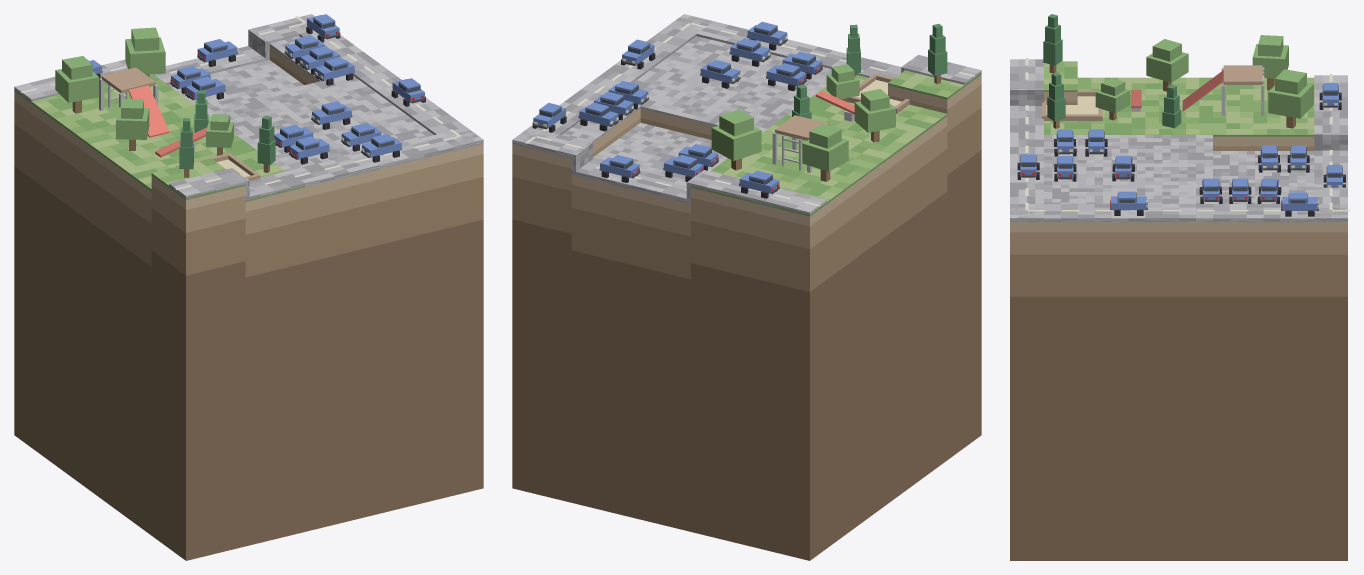
Rendered from block_23_permeable_65.glb.
3 views of the same model, side by side, from view 1: azimuth 30°, elevation 25°; view 2: azimuth 150°, elevation 25°; view 3: azimuth 270°, elevation 25° (orthographic).
Parts seen in each view (by area): view 1: Patch_UpperRight_b23_PP, Resid_UpperRight_b23_PP, Roads_UpperRight_b23_PP, PlayEquip_UpperRight_b23_PP, RTree_45_PP, RTree_46_PP, RTree_43_PP, RTree_42_PP, RTree_41_PP, RoadMarks_UpperRight_b23_PP, RCar_4_PP, PCar_0_PP (+12 smaller); view 2: Patch_UpperRight_b23_PP, Resid_UpperRight_b23_PP, Roads_UpperRight_b23_PP, PlayEquip_UpperRight_b23_PP, RTree_46_PP, RTree_45_PP, RTree_43_PP, RTree_42_PP, RTree_40_PP, PCar_4_PP, PCar_6_PP, PCar_9_PP (+13 smaller); view 3: Patch_UpperRight_b23_PP, Resid_UpperRight_b23_PP, Roads_UpperRight_b23_PP, PlayEquip_UpperRight_b23_PP, RTree_46_PP, RTree_43_PP, RTree_45_PP, RTree_42_PP, RTree_40_PP, RTree_41_PP, RoadMarks_UpperRight_b23_PP, RCar_14_PP (+14 smaller).
Part boxes in pixels (left/top/right/bottom): Patch_UpperRight_b23_PP: left=14, top=46, right=483, bottom=560; Resid_UpperRight_b23_PP: left=14, top=36, right=483, bottom=201; Roads_UpperRight_b23_PP: left=14, top=14, right=483, bottom=201; PlayEquip_UpperRight_b23_PP: left=99, top=67, right=260, bottom=180; RTree_45_PP: left=55, top=56, right=98, bottom=113; RTree_46_PP: left=125, top=27, right=165, bottom=76; RTree_43_PP: left=116, top=98, right=149, bottom=150; RTree_42_PP: left=206, top=114, right=233, bottom=155; RTree_41_PP: left=257, top=115, right=275, bottom=172; RoadMarks_UpperRight_b23_PP: left=21, top=16, right=460, bottom=189; RCar_4_PP: left=197, top=39, right=237, bottom=66; PCar_0_PP: left=289, top=136, right=329, bottom=164; Patch_UpperRight_b23_PP: left=512, top=75, right=981, bottom=560; Resid_UpperRight_b23_PP: left=512, top=36, right=981, bottom=216; Roads_UpperRight_b23_PP: left=512, top=14, right=981, bottom=216; PlayEquip_UpperRight_b23_PP: left=772, top=73, right=909, bottom=172; RTree_46_PP: left=711, top=109, right=761, bottom=170; RTree_45_PP: left=802, top=123, right=848, bottom=181; RTree_43_PP: left=854, top=89, right=895, bottom=142; RTree_42_PP: left=826, top=64, right=859, bottom=101; RTree_40_PP: left=928, top=23, right=947, bottom=83; PCar_4_PP: left=729, top=38, right=770, bottom=66; PCar_6_PP: left=700, top=59, right=740, bottom=88; PCar_9_PP: left=578, top=102, right=618, bottom=131; Patch_UpperRight_b23_PP: left=1010, top=92, right=1347, bottom=560; Resid_UpperRight_b23_PP: left=1010, top=61, right=1347, bottom=222; Roads_UpperRight_b23_PP: left=1010, top=59, right=1347, bottom=221; PlayEquip_UpperRight_b23_PP: left=1042, top=65, right=1264, bottom=120; RTree_46_PP: left=1268, top=69, right=1313, bottom=128; RTree_43_PP: left=1146, top=39, right=1188, bottom=91; RTree_45_PP: left=1252, top=35, right=1288, bottom=90; RTree_42_PP: left=1095, top=77, right=1130, bottom=120; RTree_40_PP: left=1043, top=14, right=1062, bottom=73; RTree_41_PP: left=1047, top=72, right=1065, bottom=128; RoadMarks_UpperRight_b23_PP: left=1025, top=58, right=1349, bottom=211; RCar_14_PP: left=1110, top=191, right=1147, bottom=215.
Bounding box in the file's own units: 9.55 × 12.8 × 9.55.
